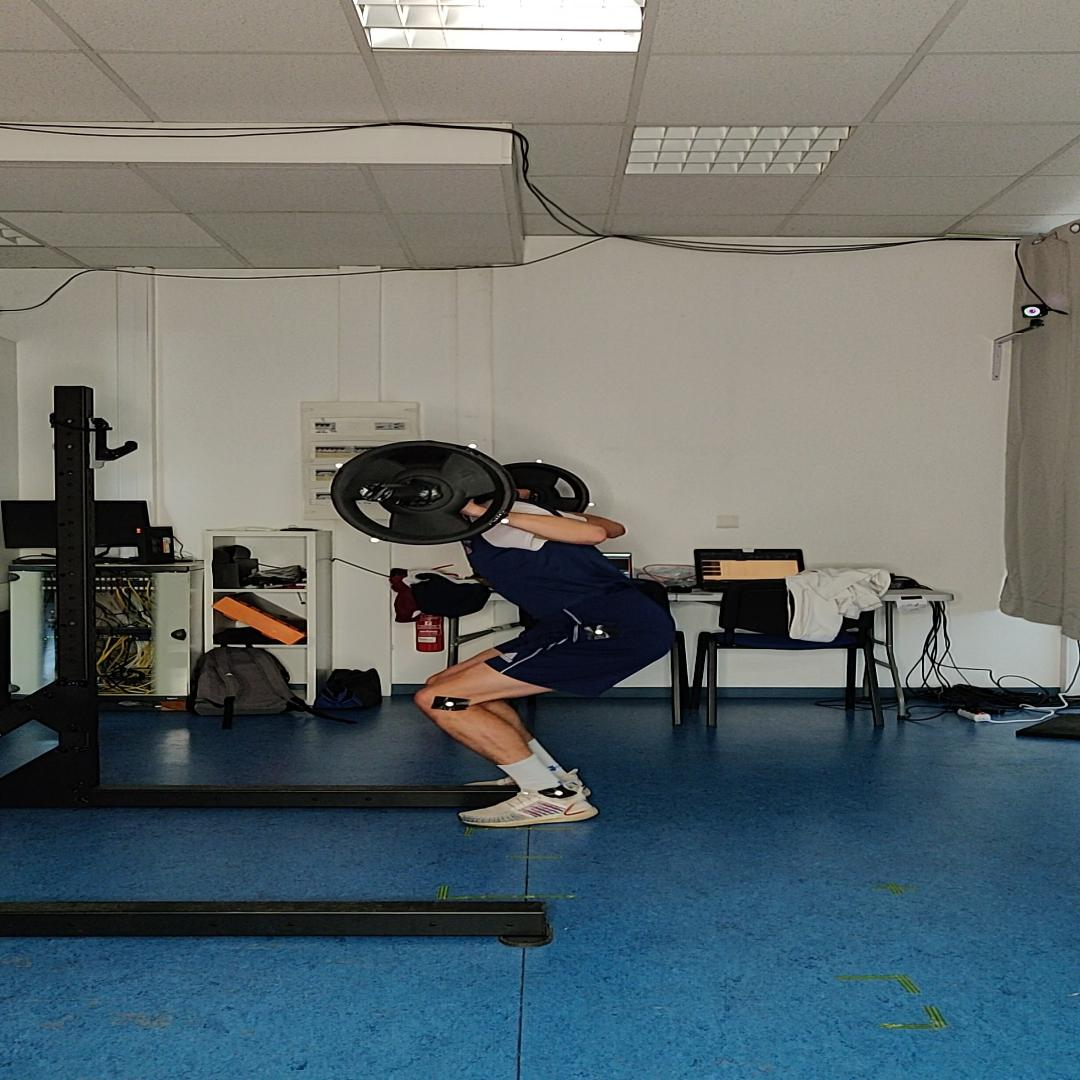Bar: (359, 483, 393, 502)
Barbell: (331, 440, 516, 546)
